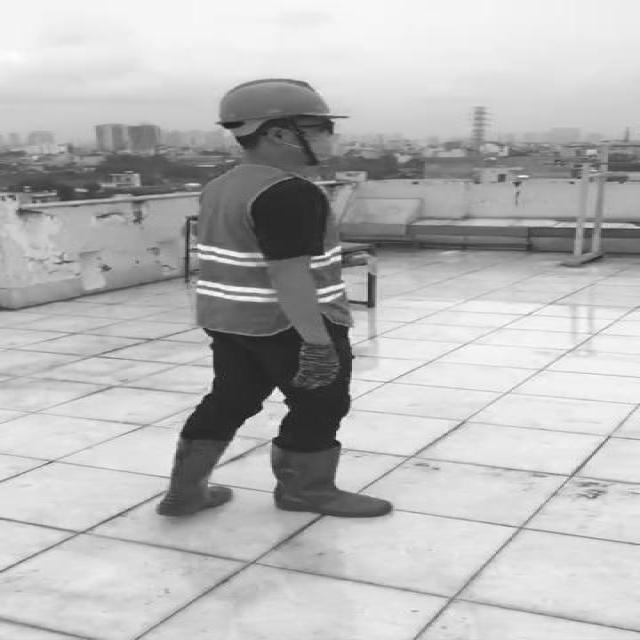boots: (269, 444, 391, 519), (151, 437, 235, 516)
face_mask: (282, 116, 351, 164)
hand_glove: (291, 342, 345, 390)
head_helmet: (214, 76, 348, 125)
person: (137, 73, 412, 530)
vest: (190, 167, 358, 335)
